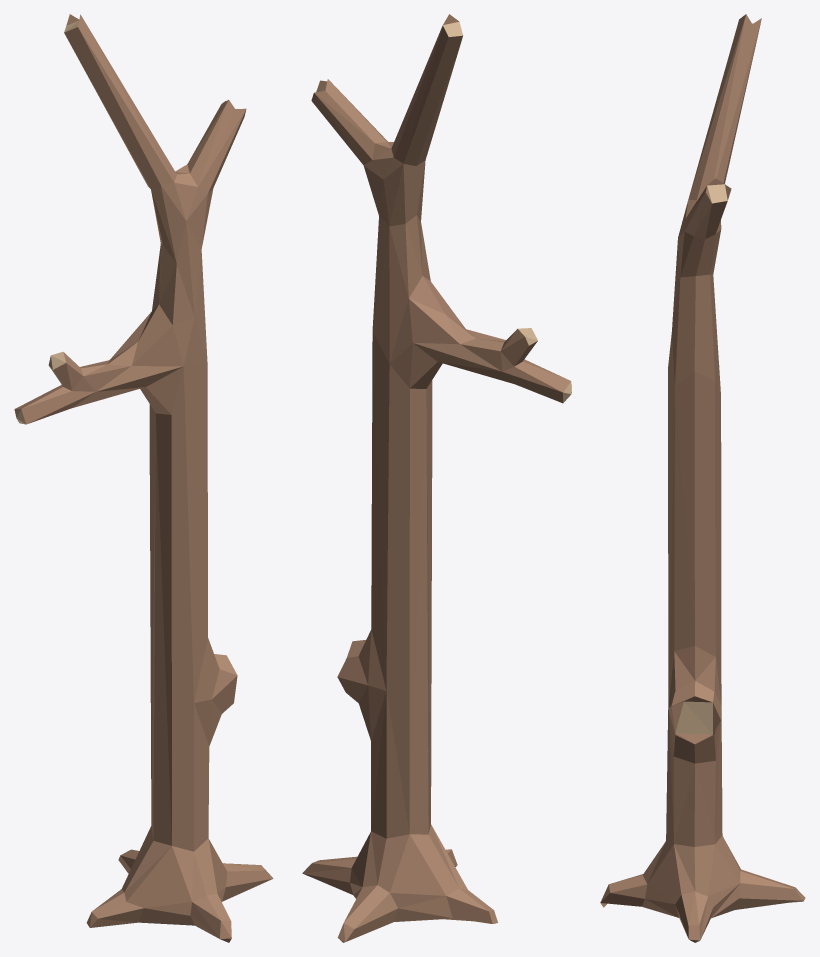
File: trunk7.fbx
3 views of the same model, side by side, from view 1: azimuth 30°, elevation 25°; view 2: azimuth 150°, elevation 25°; view 3: azimuth 270°, elevation 25° (orthographic). The views are drawn at different scales.
Visible parts, largest first — view 1: trunk7; view 2: trunk7; view 3: trunk7.
Part boxes in pixels (left/top/right/bottom): trunk7: left=14, top=14, right=273, bottom=942; trunk7: left=302, top=14, right=571, bottom=942; trunk7: left=600, top=14, right=805, bottom=942.
Size of the model in its own units: 81.33 by 271 by 58.82.
